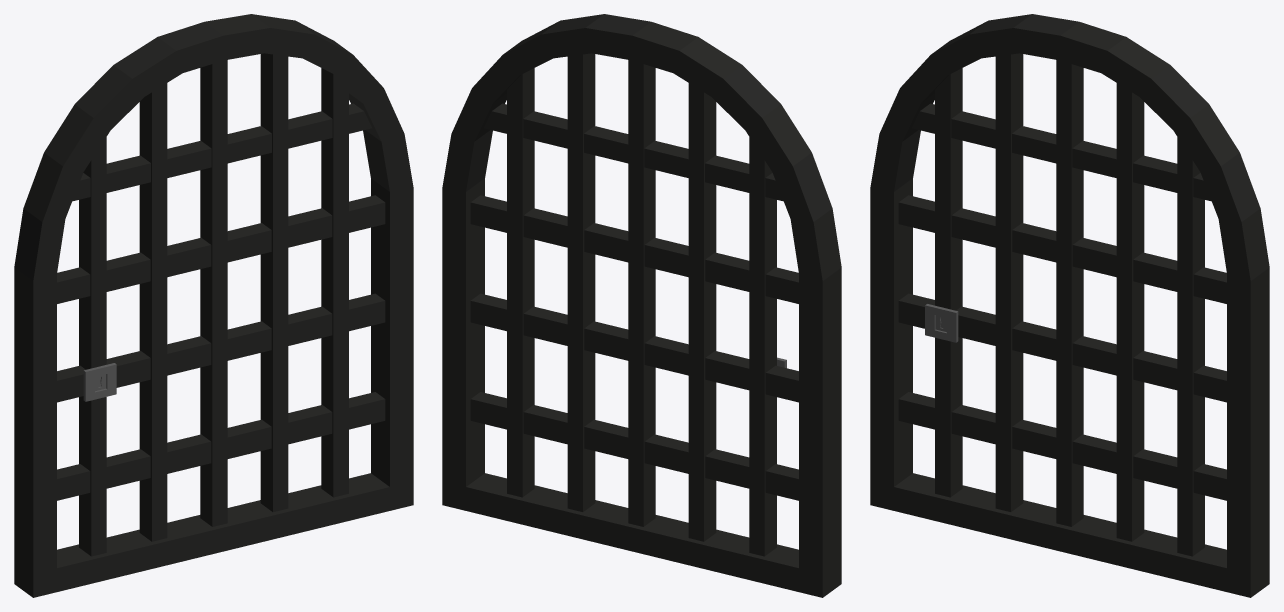
Rendered from Door_02.fbx.
3 renders of one model, left to right at view 1: azimuth 30°, elevation 25°; view 2: azimuth 150°, elevation 25°; view 3: azimuth 330°, elevation 25°, orthographic.
Parts seen in each view (by area): view 1: Door_02; view 2: Door_02; view 3: Door_02.
Boxes of the visible parts, <box> form: Door_02: <box>14,14,413,597</box>; Door_02: <box>442,14,841,597</box>; Door_02: <box>870,14,1269,597</box>.
Bounding box in the file's own units: 157 × 204 × 13.63.
